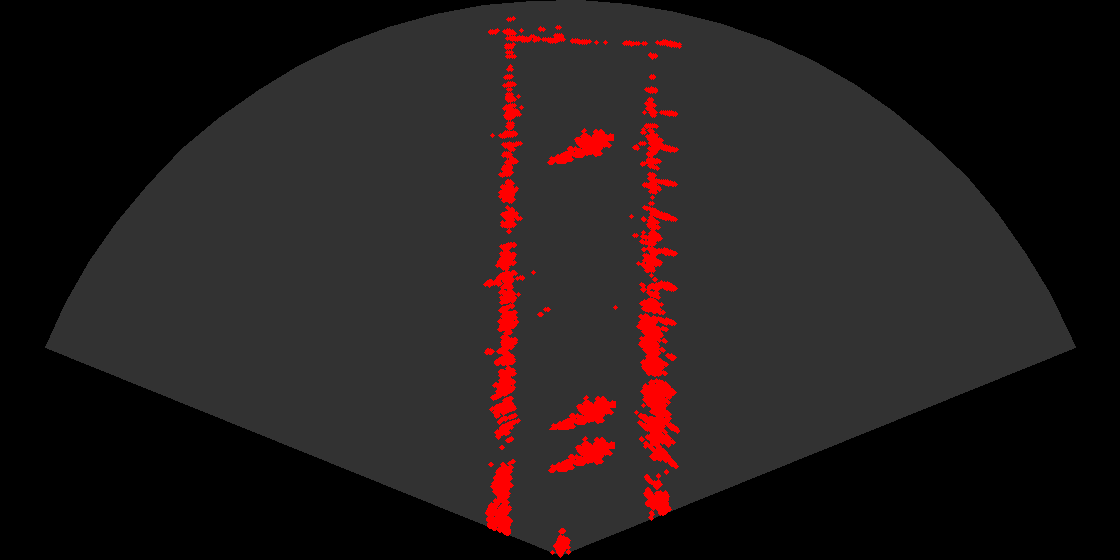frogman: (546, 122, 614, 169), (548, 389, 616, 436), (547, 430, 615, 477)
